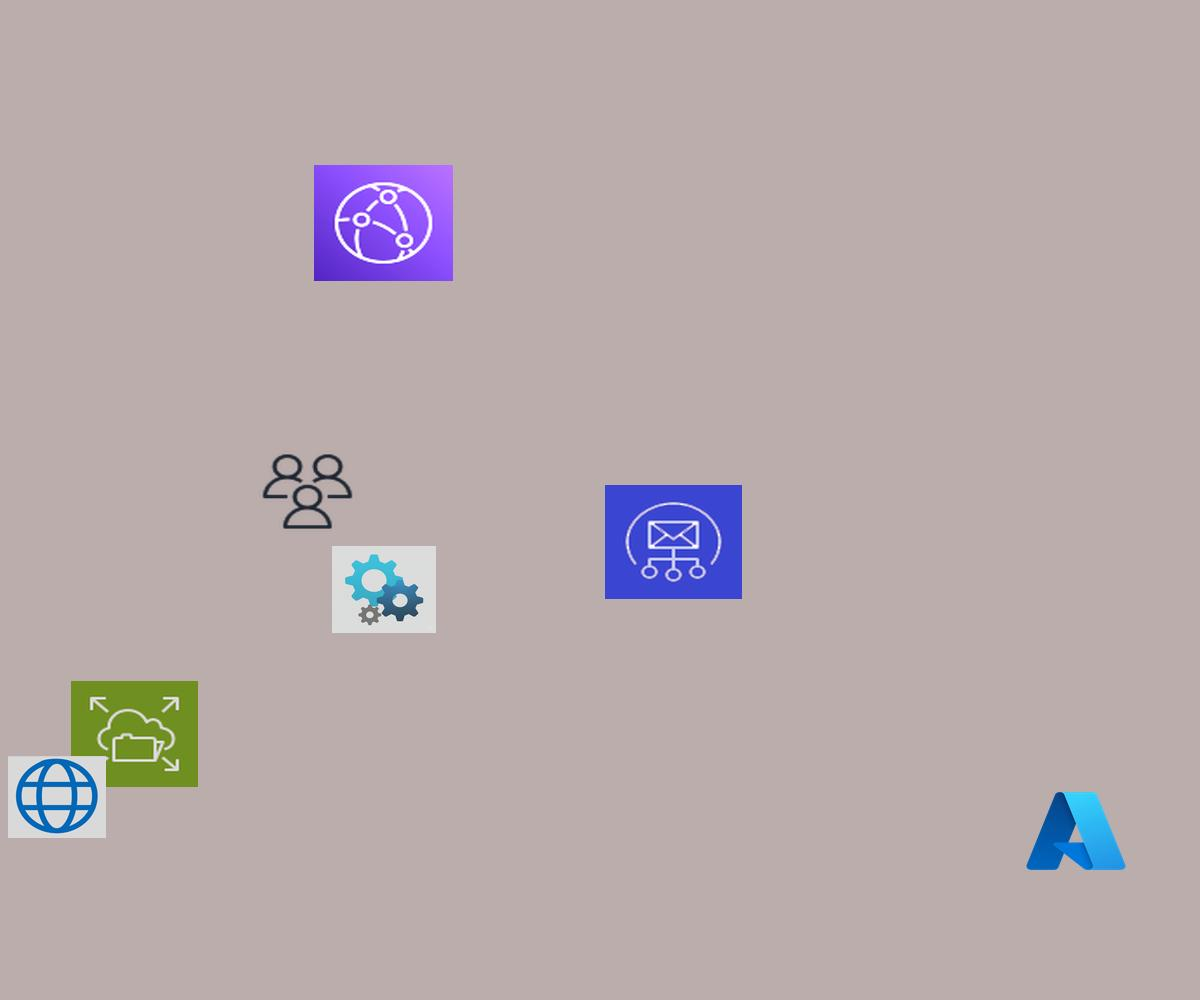AWS-CloudFront: (314, 165, 453, 281)
AWS-EFS: (71, 681, 198, 787)
AWS-Res_Users: (259, 451, 356, 532)
AWS-Simple-Email-Service: (605, 485, 742, 599)
Azure_api: (332, 546, 436, 633)
Azure_http: (8, 756, 106, 838)
Azure_services: (1022, 786, 1130, 876)
